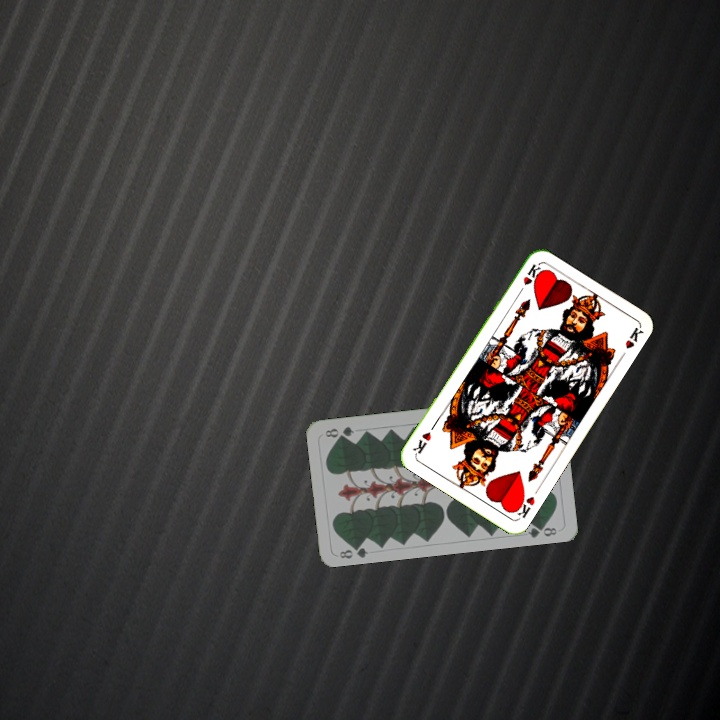G8: (336, 540, 371, 561)
HK: (514, 260, 544, 297), (509, 490, 538, 521)
